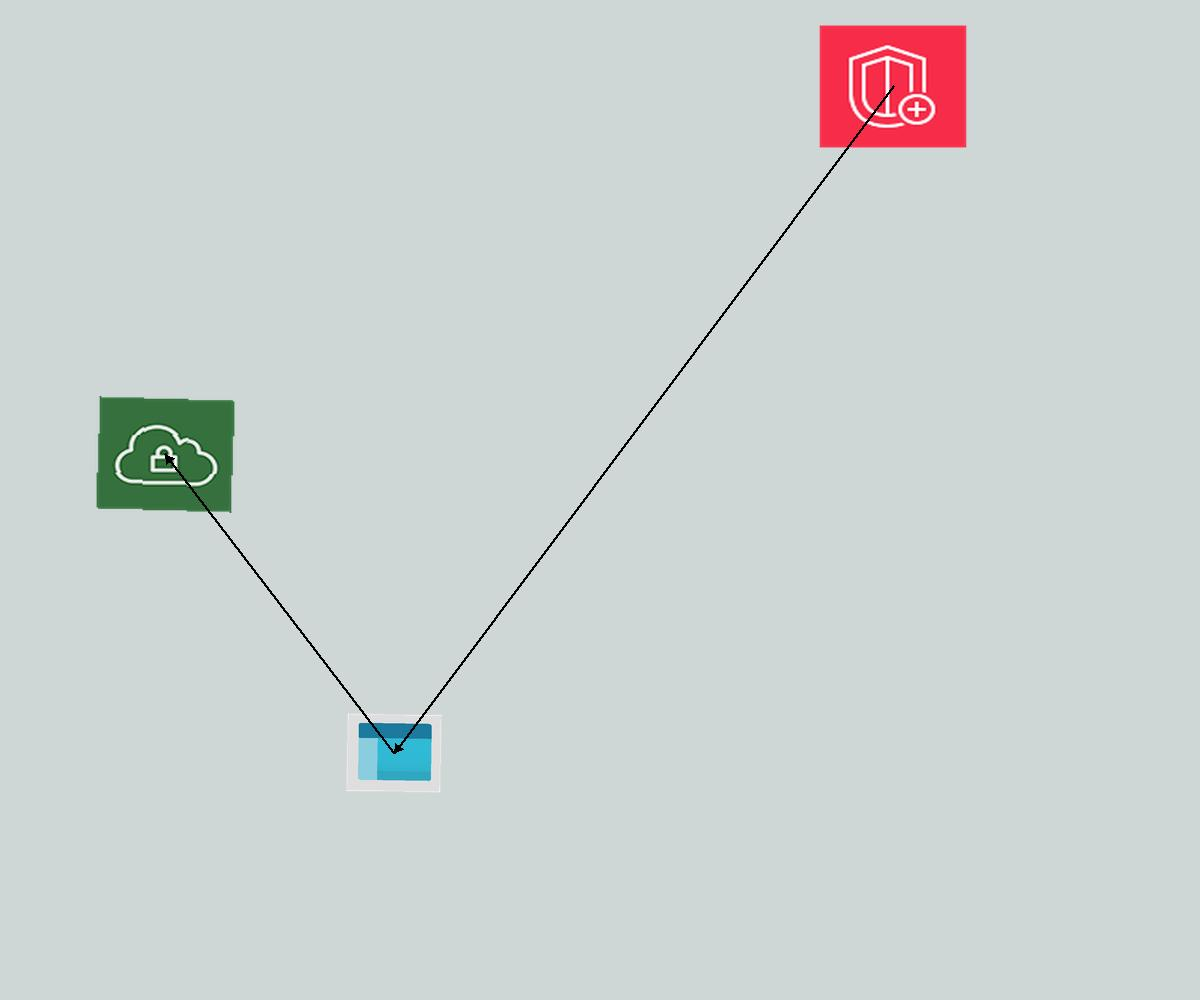AWS-Private_vpc: (95, 396, 236, 513)
AWS-Shield: (818, 24, 968, 149)
Azure_management-portal: (346, 713, 442, 793)
